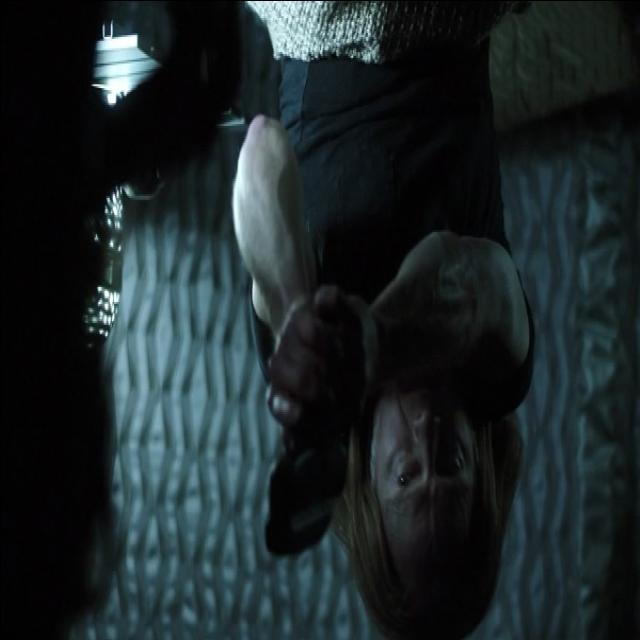weapons: (248, 312, 366, 580)
